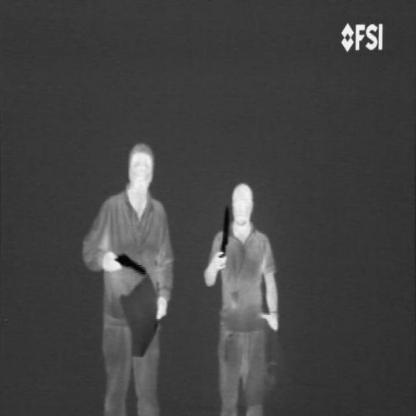weapon: (114, 249, 148, 282)
